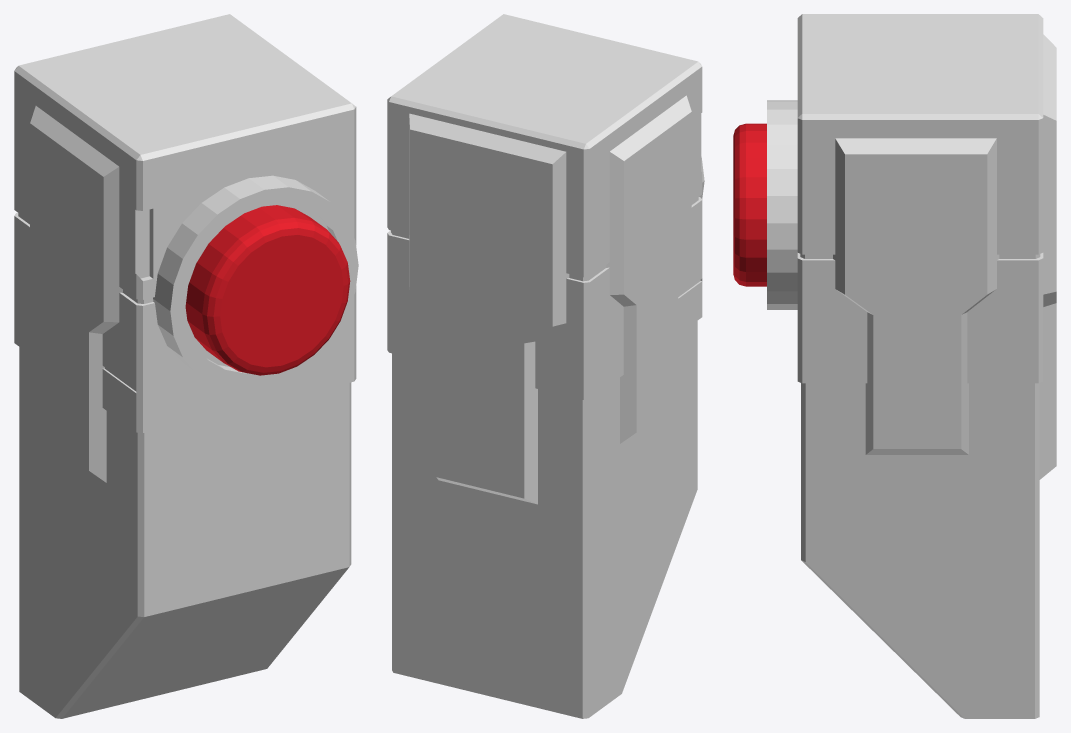
Rendered from button.fbx.
The picture shows the model from 3 angles, left to right: view 1: azimuth 30°, elevation 25°; view 2: azimuth 150°, elevation 25°; view 3: azimuth 270°, elevation 25°; orthographic projection. The views are drawn at different scales.
Visible parts, largest first — view 1: Cube.080, Circle.001, Circle; view 2: Cube.080; view 3: Cube.080, Circle, Circle.001.
Boxes of the visible parts, box(x1,y1,x2,y2) form: Cube.080: box(14, 14, 356, 718); Circle.001: box(185, 205, 350, 375); Circle: box(153, 175, 358, 389); Cube.080: box(387, 14, 702, 718); Cube.080: box(797, 14, 1056, 718); Circle: box(767, 100, 797, 309); Circle.001: box(733, 123, 766, 286).
Size of the model in its own units: 65.86 by 163 by 79.04.
